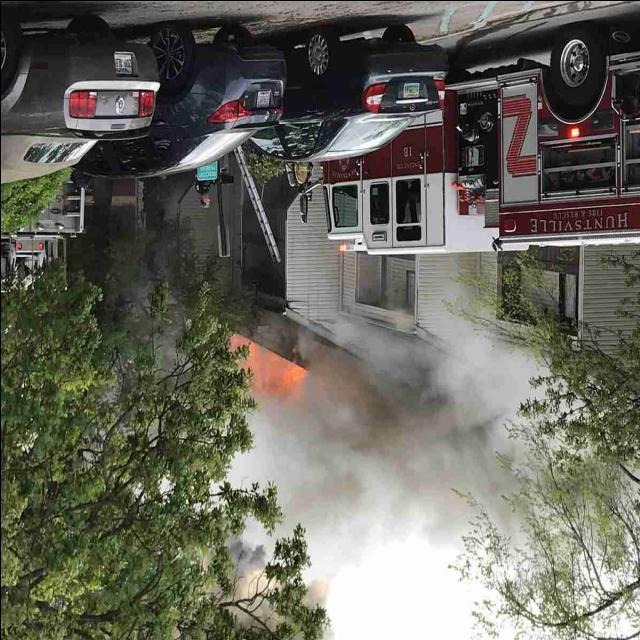Fire: (206, 334, 316, 416)
